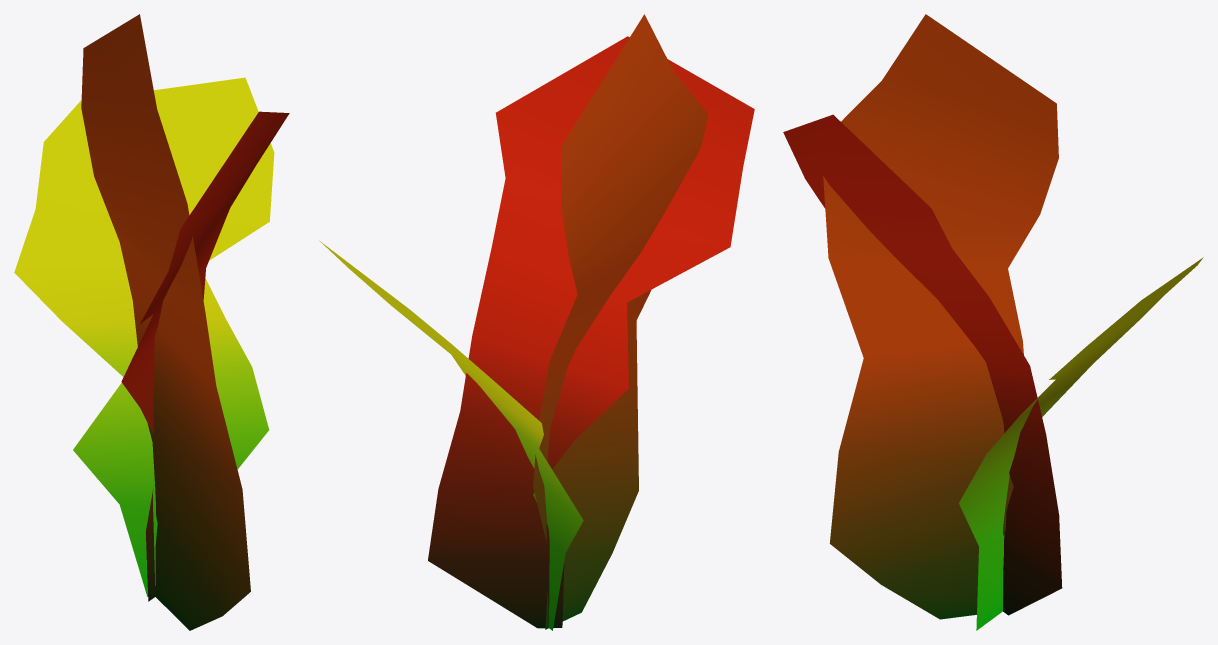
File: Seaweed_LOD1_Var4_sdpiF.fbx
The picture shows the model from 3 angles, left to right: view 1: azimuth 30°, elevation 25°; view 2: azimuth 150°, elevation 25°; view 3: azimuth 270°, elevation 25°; orthographic projection. The views are drawn at different scales.
Parts seen in each view (by area): view 1: merge1; view 2: merge1; view 3: merge1.
Part boxes in pixels (box(x1,y1,x2,y2)): merge1: box(14, 14, 289, 630); merge1: box(319, 14, 754, 630); merge1: box(783, 14, 1203, 630).
Size of the model in its own units: 12.7 by 28.68 by 18.86.
